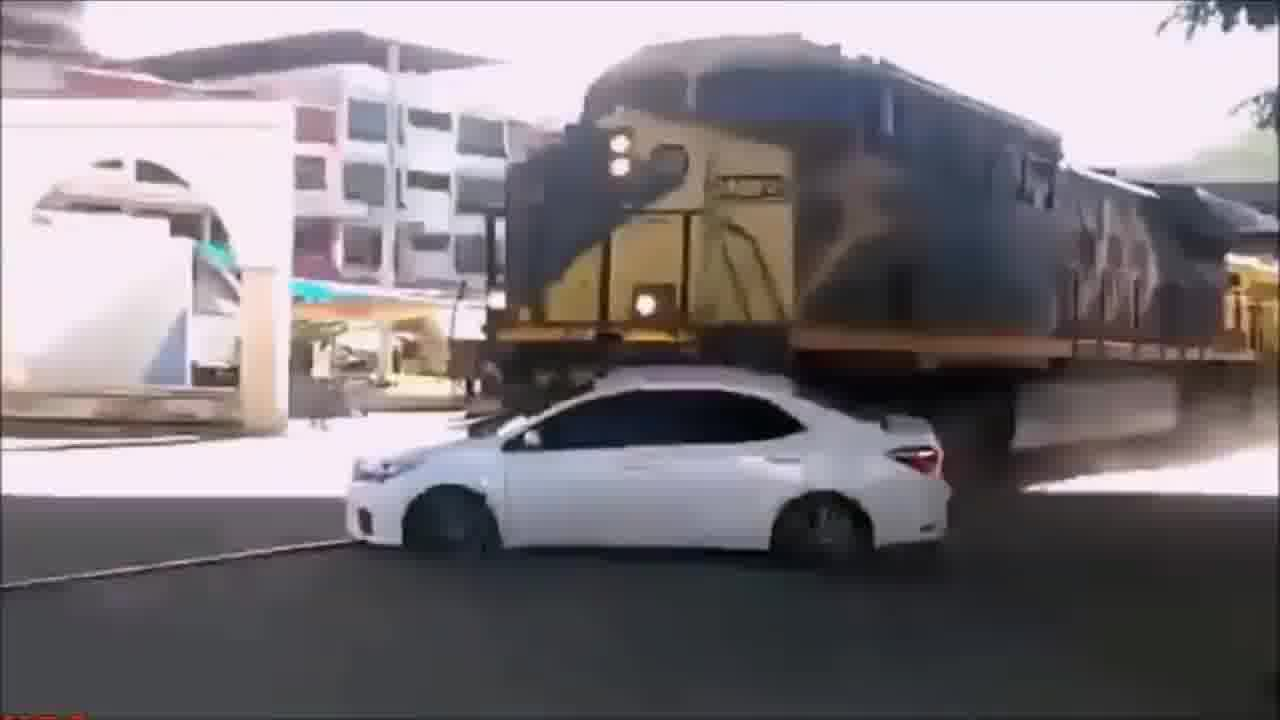crossing railway track: (281, 323, 984, 614)
